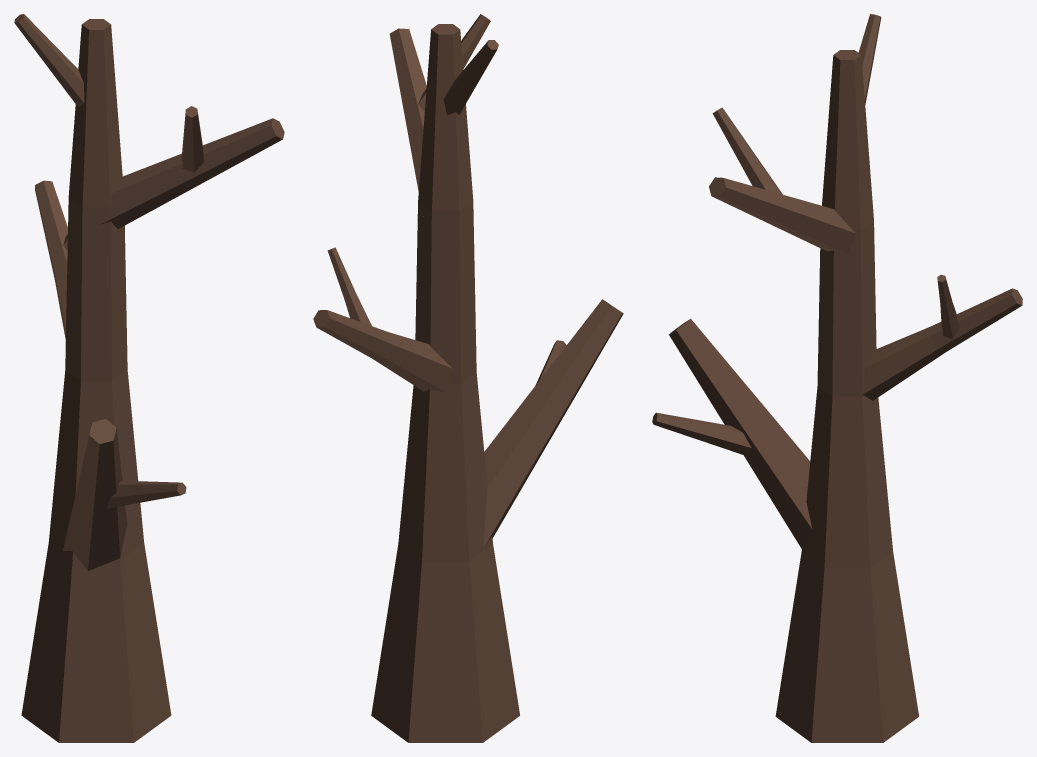
3 views of the same model, side by side, from view 1: azimuth 30°, elevation 25°; view 2: azimuth 150°, elevation 25°; view 3: azimuth 270°, elevation 25° (orthographic). The views are drawn at different scales.
Visible parts, largest first — view 1: Cylinder.007; view 2: Cylinder.007; view 3: Cylinder.007.
Boxes of the visible parts, box(x1,y1,x2,y2) form: Cylinder.007: box(14, 14, 284, 742); Cylinder.007: box(313, 14, 623, 742); Cylinder.007: box(652, 14, 1022, 742).
Size of the model in its own units: 1.54 by 2.4 by 4.83.
